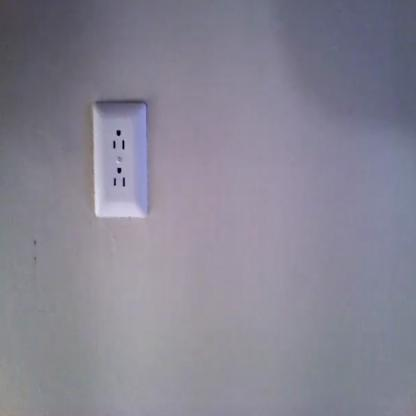OUTLET: (92, 101, 148, 218)
